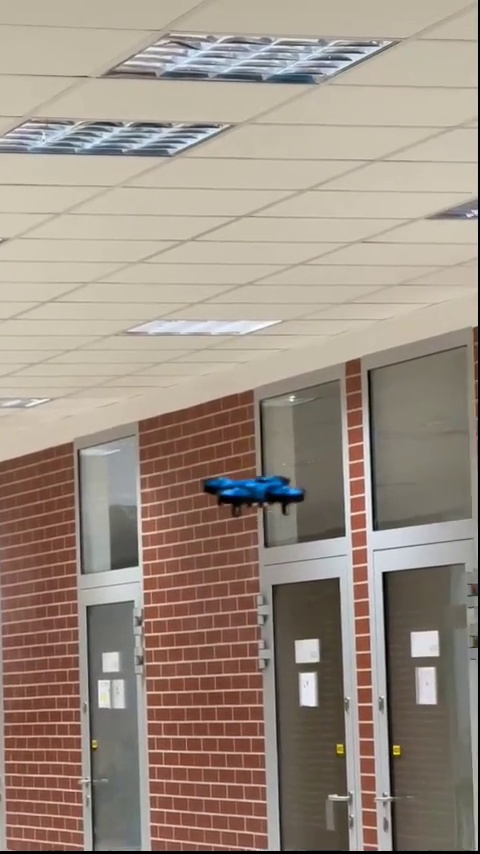drone: (201, 468, 300, 514)
